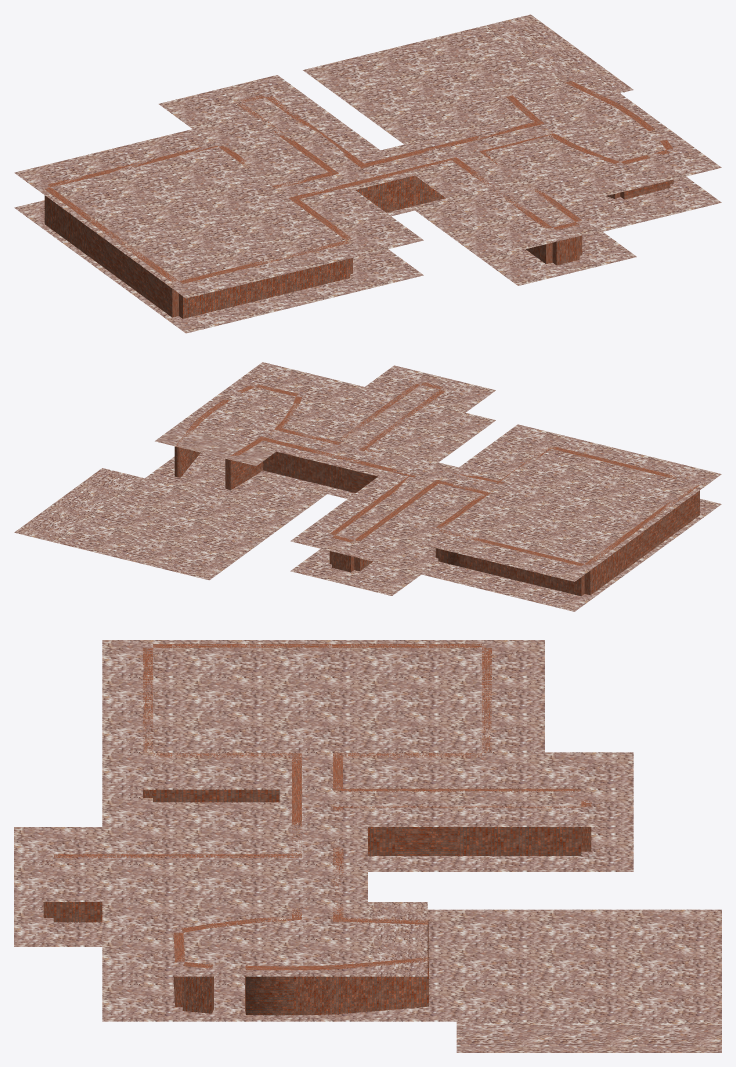
The model's file is level22.obj.
3 renders of one model, top to bottom at view 1: azimuth 30°, elevation 25°; view 2: azimuth 150°, elevation 25°; view 3: azimuth 270°, elevation 25°, orthographic. The views are drawn at different scales.
Parts seen in each view (by area): view 1: Grid.001_Grid.004, Plane.002; view 2: Grid.001_Grid.004, Plane.002; view 3: Grid.001_Grid.004, Plane.002.
Part boxes in pixels (x1=…): Grid.001_Grid.004: x1=14, y1=14, x2=721, y2=333; Plane.002: x1=44, y1=81, x2=673, y2=318; Grid.001_Grid.004: x1=14, y1=362, x2=721, y2=611; Plane.002: x1=174, y1=382, x2=699, y2=596; Grid.001_Grid.004: x1=14, y1=640, x2=721, y2=1052; Plane.002: x1=43, y1=644, x2=591, y2=1015.
Size of the model in its own units: 17.52 by 1 by 14.26.
